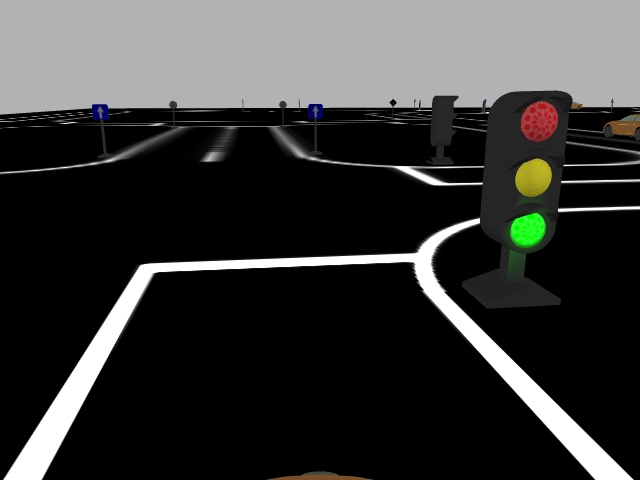green_light: (479, 88, 572, 254)
oneway: (90, 103, 109, 121), (307, 103, 323, 121)
